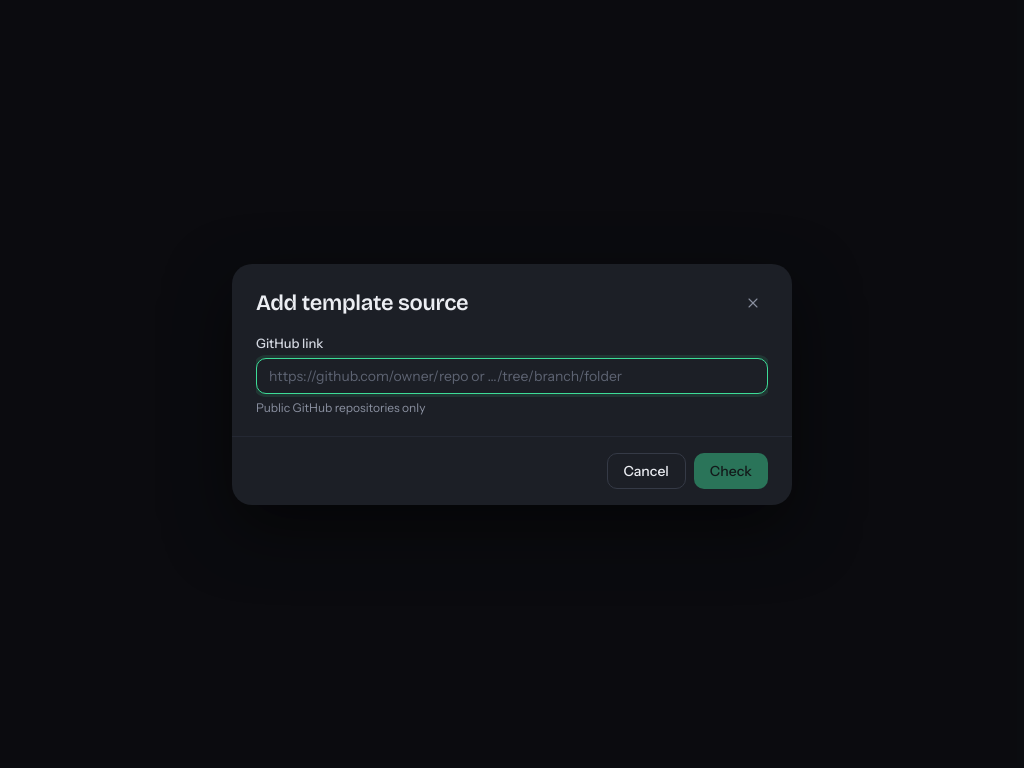
Test case: W5 AddTemplateSourceDialog › Check disabled when empty; invalid-url error shown inline
Check: the button "Check" is disabled, box top-left (694, 452), bottom-right (768, 488)
In the field labelled "GitHub link": (512, 376) top-left (256, 358), bottom-right (768, 394), type "http://github.com/a/b"
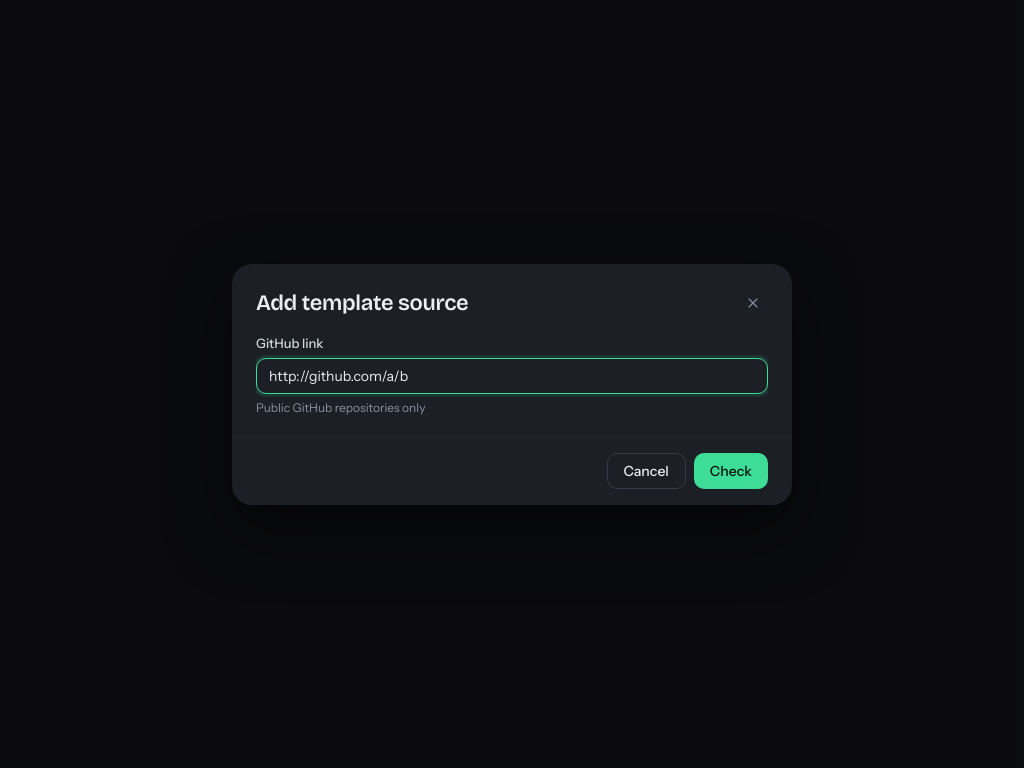
Click the button "Check": (731, 470) top-left (694, 452), bottom-right (768, 488)
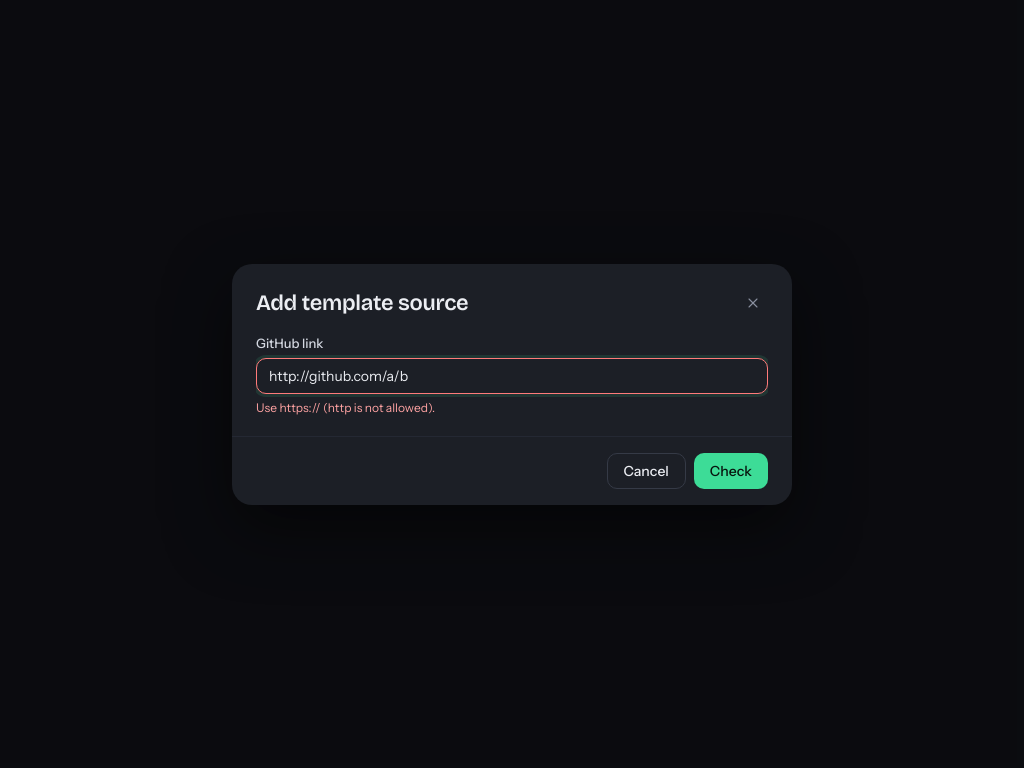
Check: the text "Use https:// (http is not allowed)." is shown, box top-left (256, 400), bottom-right (435, 414)
